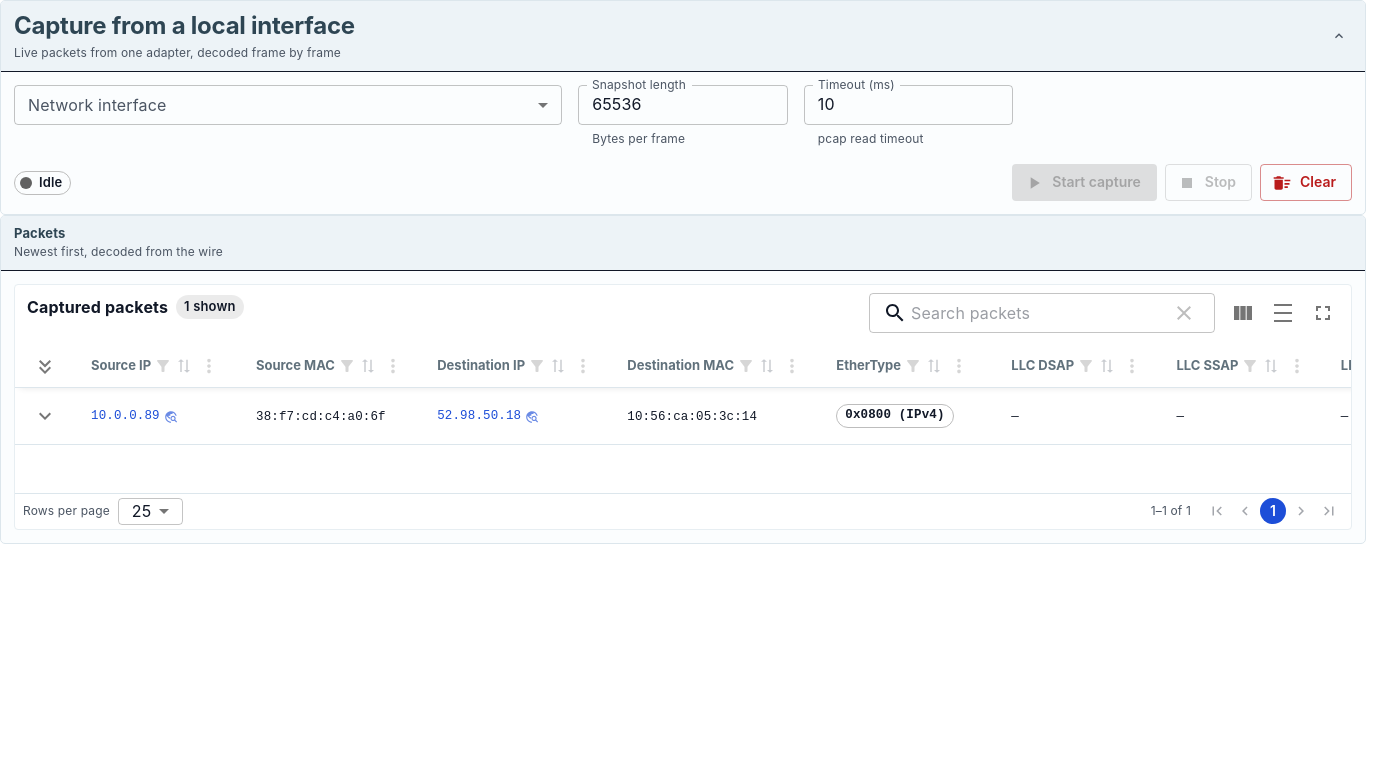
Test: PacketCapture › reports a failed start instead of claiming to be capturing
Click the dropdown named "network interface" at {"x": 288, "y": 104}, box 14,84 -> 562,124
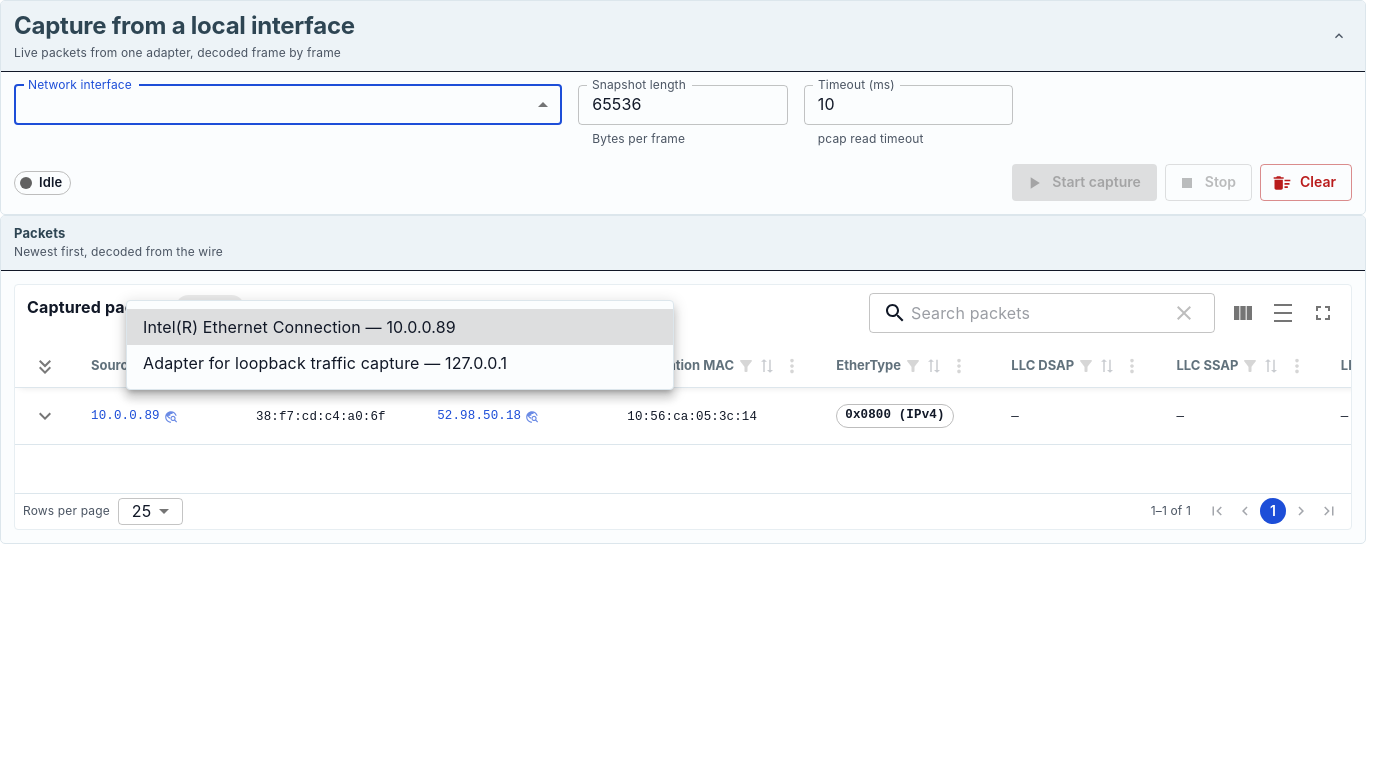
Click the option "Intel(R) Ethernet Connection — 10.0.0.89" at {"x": 400, "y": 327}, box 127,309 -> 673,345
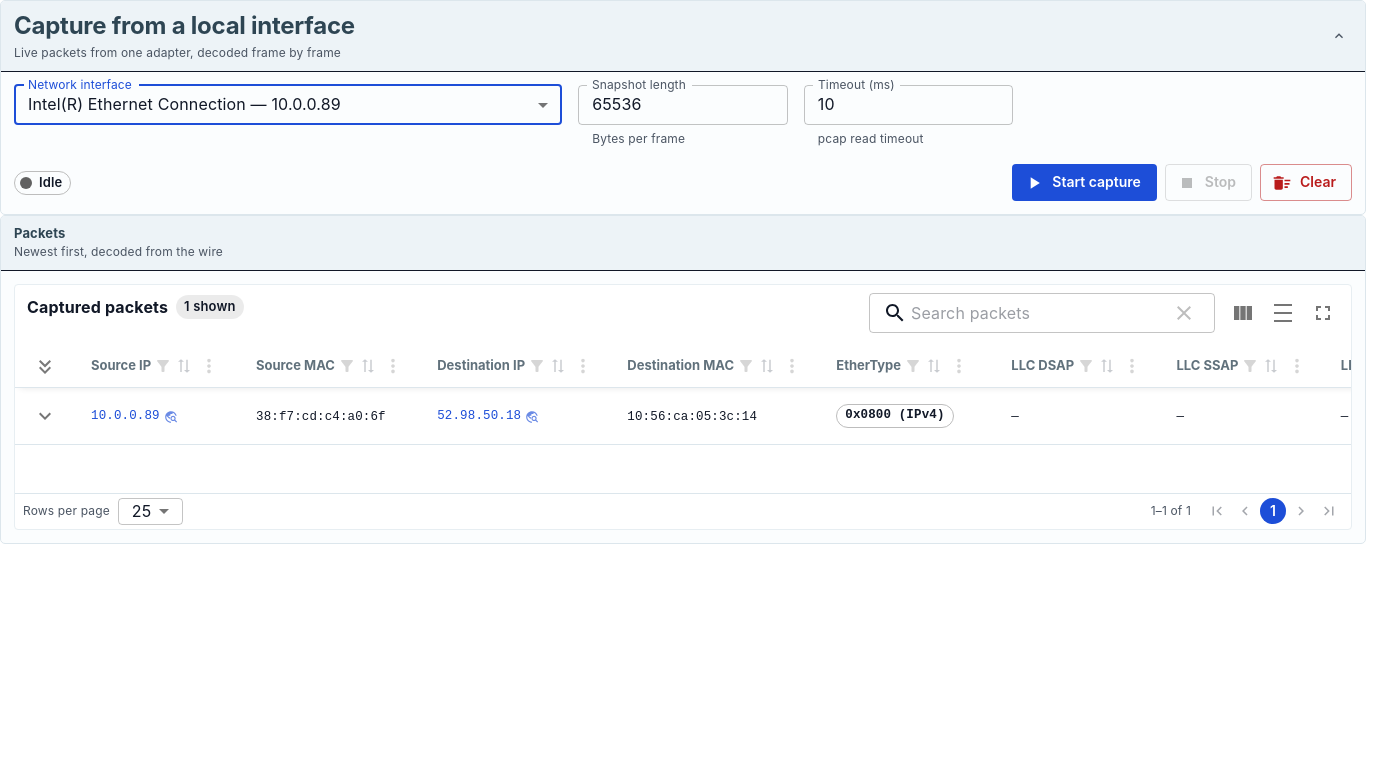
Click the button "Start capture" at {"x": 1085, "y": 183}, box 1012,164 -> 1157,201
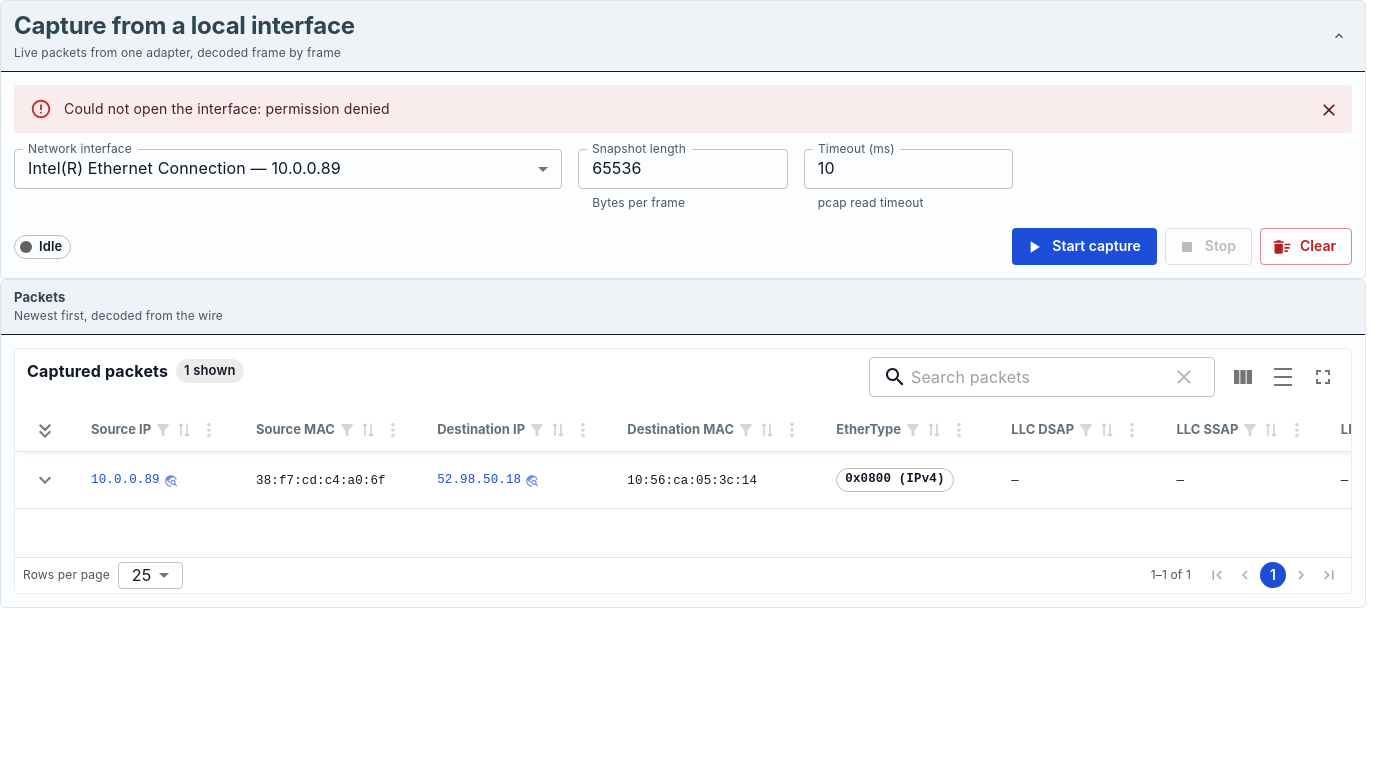
Expected: the text "Idle" is shown, 39,238 -> 62,254
Result: the text "Could not open the interface: permission denied" is shown at 64,100 -> 390,116
